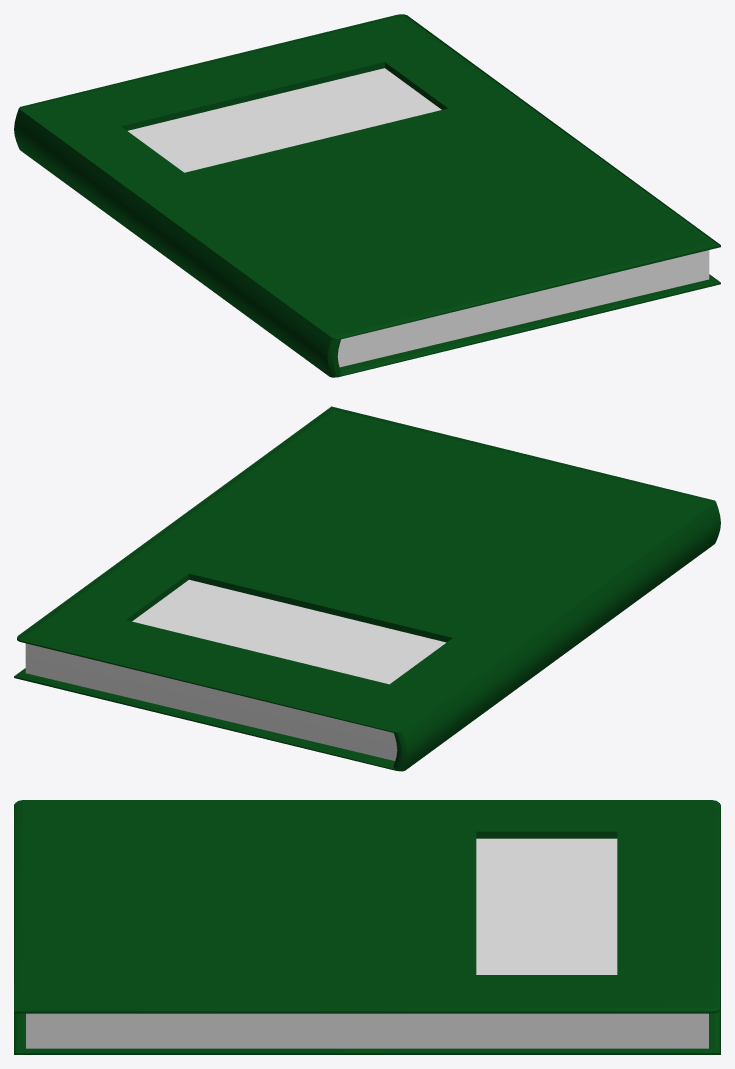
Rendered from book1.fbx.
The picture shows the model from 3 angles, top to bottom: view 1: azimuth 30°, elevation 25°; view 2: azimuth 150°, elevation 25°; view 3: azimuth 270°, elevation 25°; orthographic projection. The views are drawn at different scales.
Parts seen in each view (by area): view 1: Cube.001; view 2: Cube.001; view 3: Cube.001.
Part boxes in pixels (left/top/right/bottom): Cube.001: left=14, top=14, right=720, bottom=377; Cube.001: left=14, top=406, right=720, bottom=771; Cube.001: left=14, top=800, right=720, bottom=1054.
Size of the model in its own units: 206 by 20.4 by 288.
